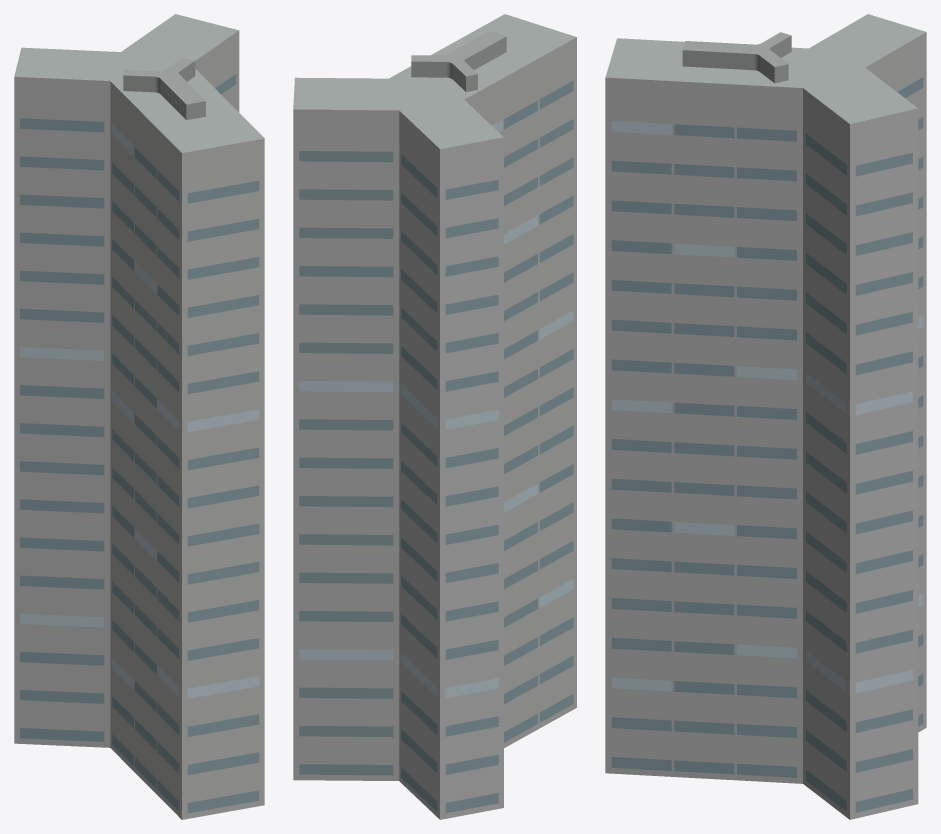
Rendered from fallback-godeok-raemian-hillstate-completion-208.glb.
The picture shows the model from 3 angles, left to right: view 1: azimuth 30°, elevation 25°; view 2: azimuth 150°, elevation 25°; view 3: azimuth 270°, elevation 25°; orthographic projection. The views are drawn at different scales.
Parts seen in each view (by area): view 1: fallback-godeok-raemian-hillstate-completion-208; view 2: fallback-godeok-raemian-hillstate-completion-208; view 3: fallback-godeok-raemian-hillstate-completion-208.
Boxes of the visible parts, x1,y1,x2,y2 form: fallback-godeok-raemian-hillstate-completion-208: (14, 14, 264, 819); fallback-godeok-raemian-hillstate-completion-208: (293, 14, 576, 819); fallback-godeok-raemian-hillstate-completion-208: (605, 14, 926, 819).
Size of the model in its own units: 34.86 by 105 by 42.93.
